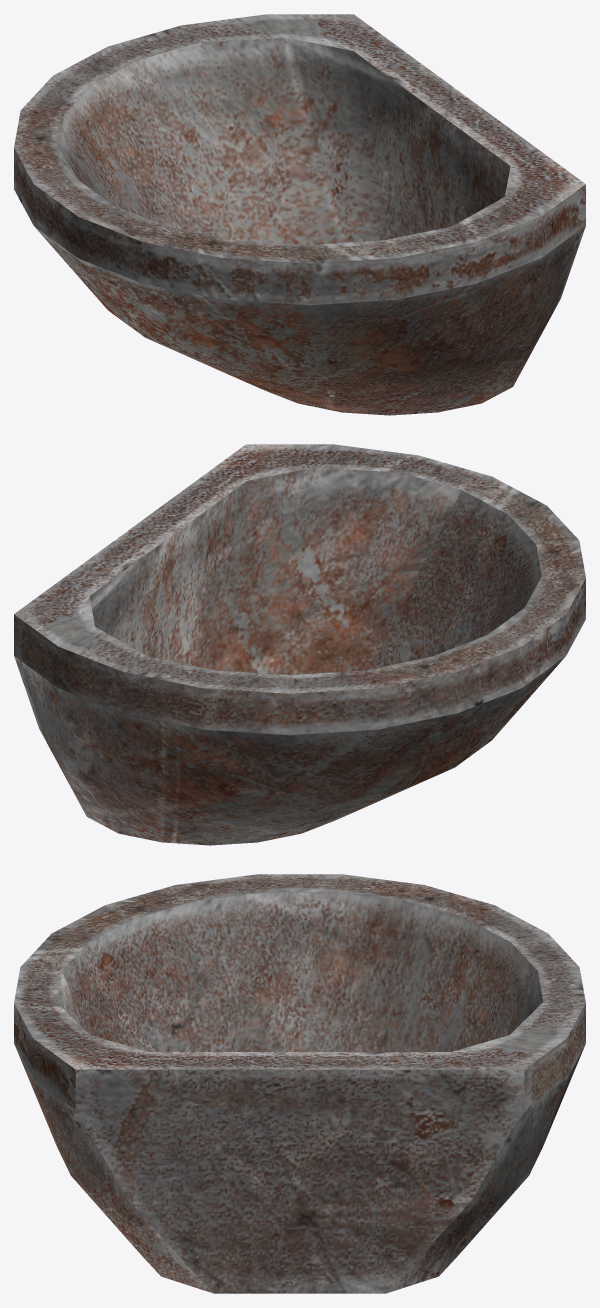
File: Sink.FBX
The picture shows the model from 3 angles, top to bottom: view 1: azimuth 30°, elevation 25°; view 2: azimuth 150°, elevation 25°; view 3: azimuth 270°, elevation 25°; orthographic projection. The views are drawn at different scales.
Parts seen in each view (by area): view 1: Sink; view 2: Sink; view 3: Sink.
Part boxes in pixels (x1=…): Sink: x1=14, y1=14, x2=585, y2=415; Sink: x1=14, y1=444, x2=585, y2=845; Sink: x1=14, y1=874, x2=585, y2=1293.
Size of the model in its own units: 2.77 by 1.5 by 3.36.
